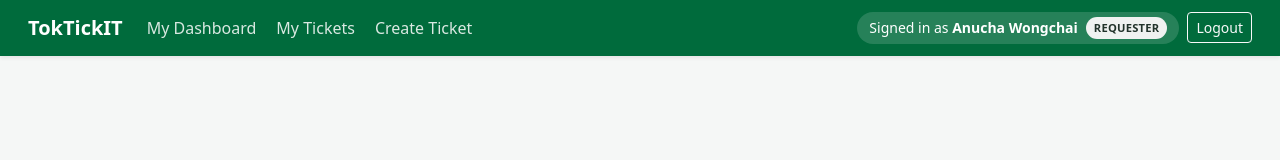
Test: AppHeader Component (Issue #24 adapted for Lab 3, FR-18, FR-19) › disables Logout while a sign-out is in flight and ignores duplicate clicks
Click the button with test id "logout-btn".
click(1220, 28)  # box [1187, 12, 1252, 44]
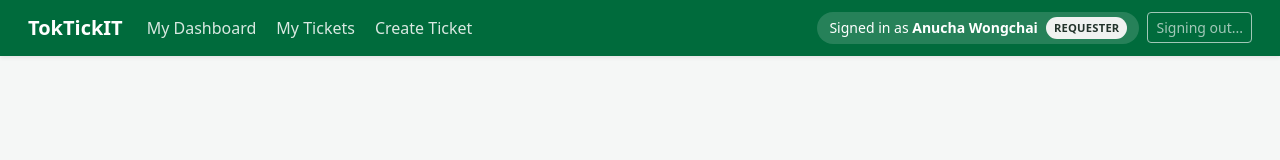
Result: the button with test id "logout-btn" is disabled
A second click while pending must not issue a second revocation.
Click the button with test id "logout-btn".
click(1200, 28)  # box [1148, 12, 1252, 44]
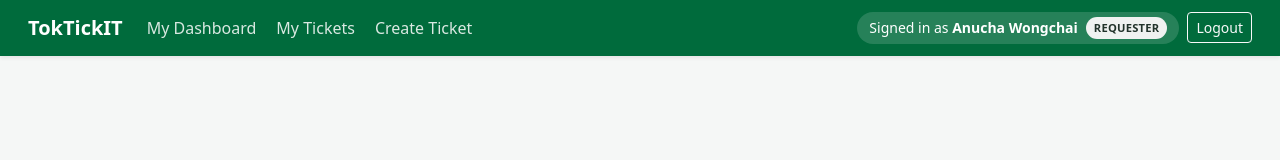
Result: the button with test id "logout-btn" is enabled at [1187, 12, 1252, 44]
